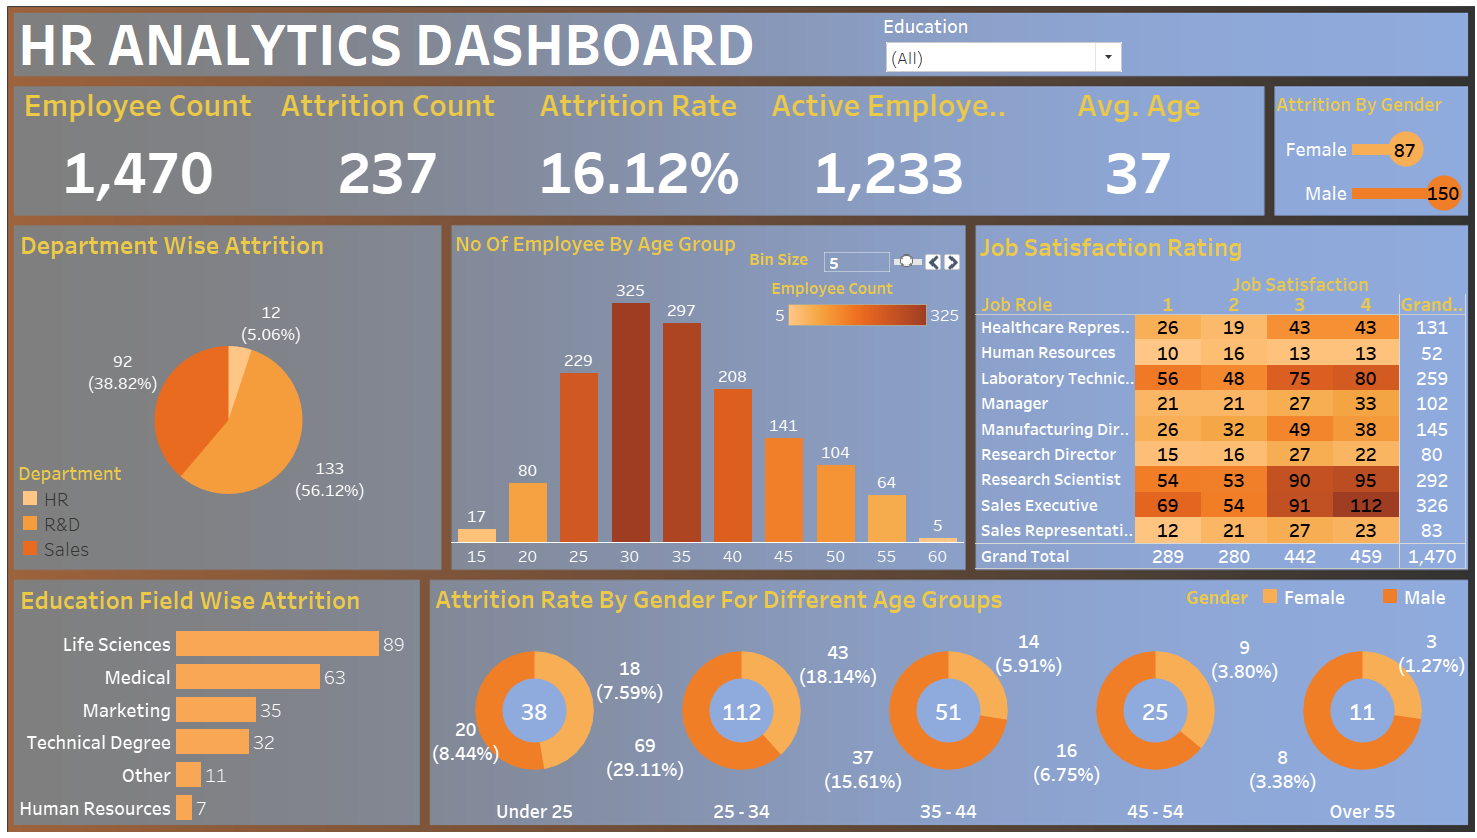

This screenshot's page, from the dashboard's own definition file:
{"tool":"tableau","page":{"name":"HR ANALYTICS DASHBOARD","canvas":[1580,900],"ordinal":0},"visuals":[{"type":"image","param":"C:/Users/siyak/Downloads/HR background.png","box":[8,8,1564,884]},{"type":"text","box":[18,18,860,66]},{"type":"filter","title":"Department Wise Attrition","param":"[federated.1dyxq7x1hwmsf51e5u3ie117a7p0].[none:Education:nk]","box":[876,18,242,69]},{"type":"worksheet","title":"KPI","mark":"Automatic","box":[20,95,1327,140]},{"type":"worksheet","title":" nsjwdjhd","mark":"Automatic","box":[19,97,1326,138]},{"type":"worksheet","title":"Attrition By Gender","mark":"Automatic","rows":["Gender"],"cols":["Calculation_1629177188099768325","Calculation_1629177188099768325"],"box":[1356,97,204,136]},{"type":"worksheet","title":"Department Wise Attrition","mark":"Pie","box":[18,243,454,365]},{"type":"worksheet","title":"Job Satisfaction Rating","mark":"Square","rows":["Job Role"],"cols":["Job Satisfaction"],"box":[1038,244,521,363]},{"type":"worksheet","title":"No Of Employee By Age Group","mark":"Automatic","rows":["Employee Count"],"cols":["Age (bin)"],"box":[485,245,543,363]},{"type":"parameter","param":"[Parameters].[Parameter 1]","box":[789,257,238,35]},{"type":"legend","title":"No Of Employee By Age Group","param":"[federated.1dyxq7x1hwmsf51e5u3ie117a7p0].[sum:Employee Count:qk]","box":[829,294,193,70]},{"type":"legend","title":"Department Wise Attrition","param":"[federated.1dyxq7x1hwmsf51e5u3ie117a7p0].[none:Department:nk]","box":[26,504,140,101]},{"type":"worksheet","title":"Attrition Rate By Gender For Different Age Groups","mark":"Pie","rows":["Calculation_1629177188137046025","Calculation_1629177188137046025"],"cols":["CF_age band"],"box":[462,618,1098,261]},{"type":"worksheet","title":"Education Field Wise Attrition","mark":"Automatic","rows":["Education Field"],"cols":["Calculation_1629177188099768325"],"box":[19,619,430,260]},{"type":"legend","title":"Attrition Rate By Gender For Different Age Groups","param":"[federated.1dyxq7x1hwmsf51e5u3ie117a7p0].[none:Gender:nk]","box":[1235,625,322,33]}]}

Visuals, with their boxes in screenshot pixels (x1, y1, x2, y2), scaled from the page's 1580x900 canvas onto the 1477x838 screenshot:
image: l=7, t=7, r=1470, b=831
text: l=17, t=17, r=821, b=78
"Department Wise Attrition" filter: l=819, t=17, r=1045, b=81
"KPI" worksheet: l=19, t=88, r=1259, b=219
" nsjwdjhd" worksheet: l=18, t=90, r=1257, b=219
"Attrition By Gender" worksheet: l=1268, t=90, r=1458, b=217
"Department Wise Attrition" worksheet (Pie marks): l=17, t=226, r=441, b=566
"Job Satisfaction Rating" worksheet (Square marks): l=970, t=227, r=1457, b=565
"No Of Employee By Age Group" worksheet: l=453, t=228, r=961, b=566
parameter: l=738, t=239, r=960, b=272
"No Of Employee By Age Group" legend: l=775, t=274, r=955, b=339
"Department Wise Attrition" legend: l=24, t=469, r=155, b=563
"Attrition Rate By Gender For Different Age Groups" worksheet (Pie marks): l=432, t=575, r=1458, b=818
"Education Field Wise Attrition" worksheet: l=18, t=576, r=420, b=818
"Attrition Rate By Gender For Different Age Groups" legend: l=1154, t=582, r=1455, b=613
